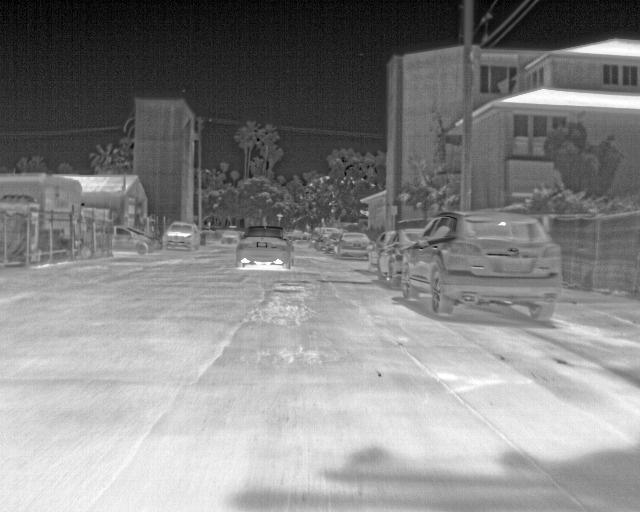bicycle: (401, 212, 564, 320), (377, 225, 425, 289), (236, 226, 292, 267), (111, 224, 154, 254), (368, 228, 394, 273), (161, 222, 200, 251), (335, 230, 371, 258), (324, 230, 341, 254), (221, 227, 242, 246)
